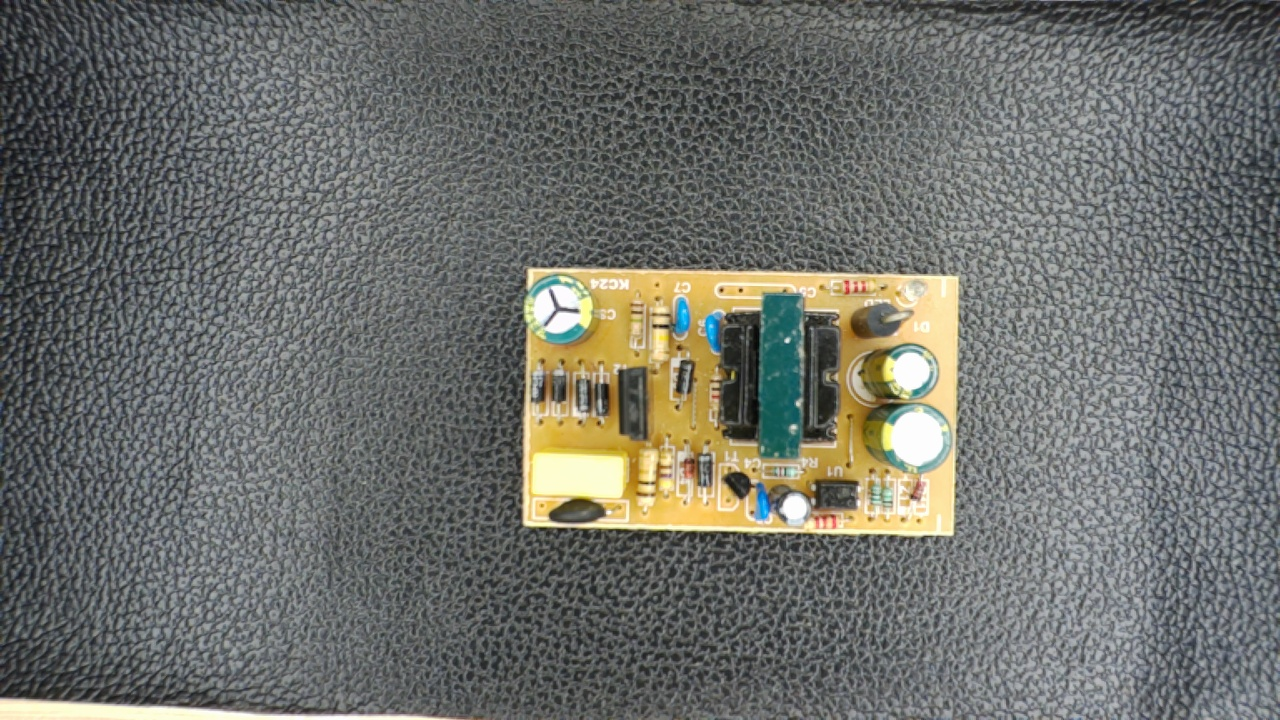fuse: (539, 494, 621, 527)
hv_capacitor: (521, 272, 599, 342)
optocoupler: (807, 473, 863, 519)
